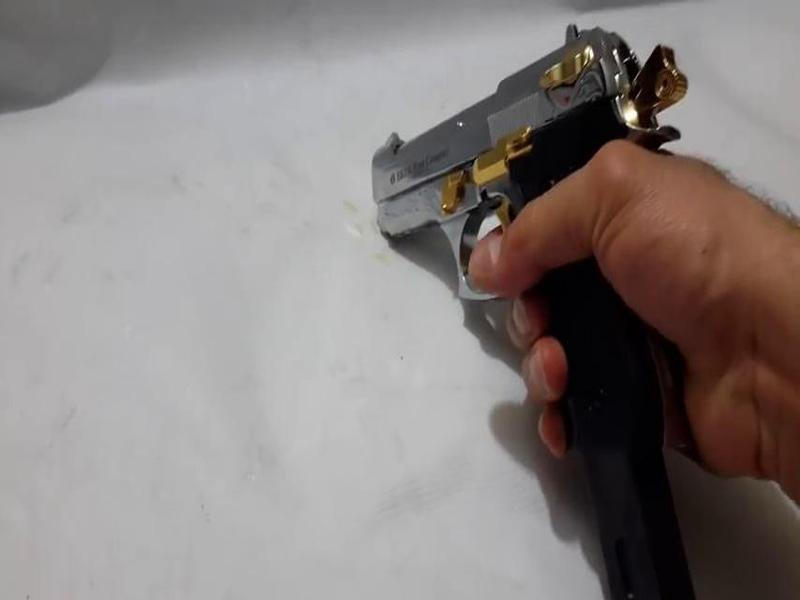Pistola: (392, 41, 687, 454)
